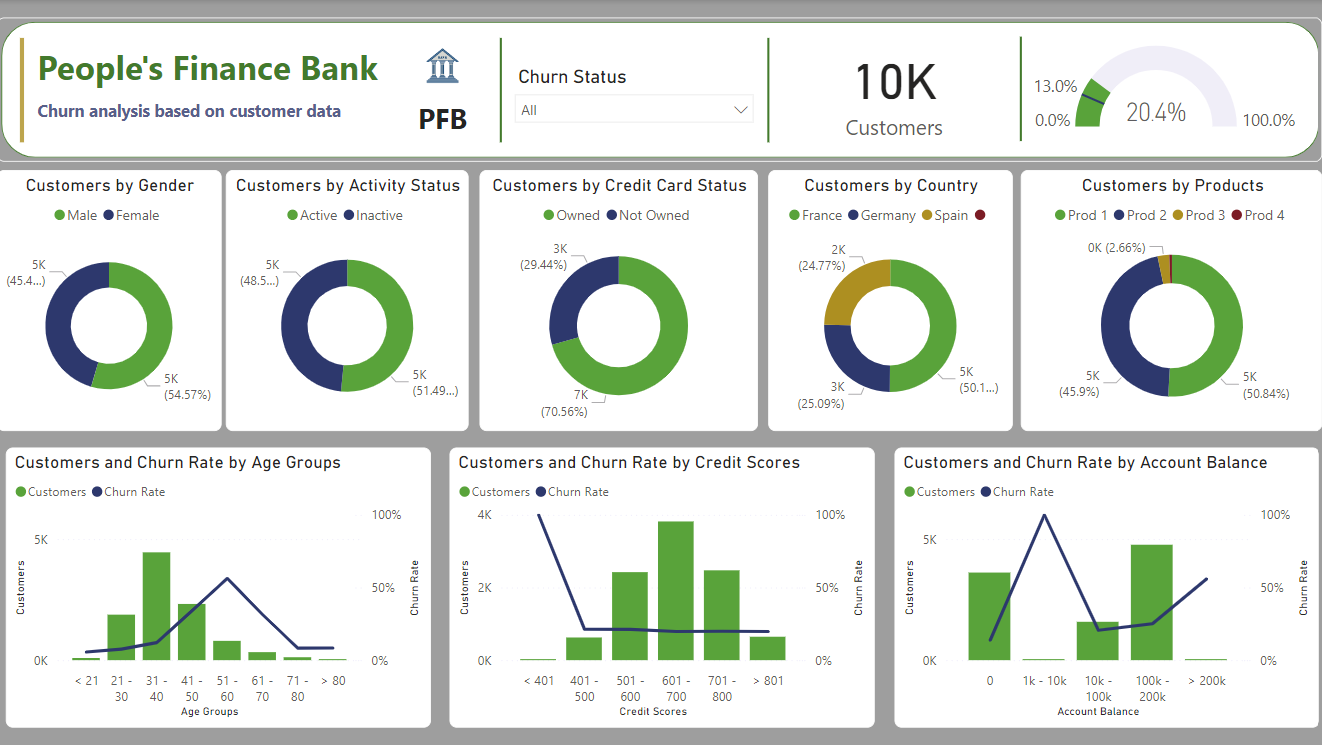

The page's visual inventory and layout, read from the dashboard file:
{"tool":"powerbi","page":{"name":"Churn Analysis","canvas":[1280,720],"ordinal":0},"visuals":[{"type":"donutChart","fields":{"Y":["Customer Data.Customers"],"Category":["Customer Data.Gender"]},"box":[0,163.6,216.4,251.9],"z":0},{"type":"donutChart","fields":{"Y":["Customer Data.Customers"],"Category":["Customer Data.Activity Status"]},"box":[221.3,163.6,234.8,251.9],"z":1000},{"type":"donutChart","fields":{"Y":["Customer Data.Customers"],"Category":["Customer Data.Credit Card Status"]},"box":[465.9,163.6,269,251.9],"z":2000},{"type":"donutChart","fields":{"Y":["Customer Data.Customers"],"Category":["Customer Data.Country"]},"box":[744.7,163.6,236,251.9],"z":3000},{"type":"donutChart","fields":{"Y":["Customer Data.Customers"],"Category":["Customer Data.Products"]},"box":[988,163.6,292.3,251.9],"z":4000},{"type":"lineStackedColumnComboChart","fields":{"Y":["Customer Data.Customers"],"Y2":["Customer Data.Churn Rate"],"Category":["Age Groups.Age Groups"]},"box":[8.6,432.5,410,270.2],"z":5000},{"type":"lineStackedColumnComboChart","fields":{"Y":["Customer Data.Customers"],"Y2":["Customer Data.Churn Rate"],"Category":["Credit Scores.Credit Scores"]},"box":[437.2,432.5,410,270.2],"z":6000},{"type":"lineStackedColumnComboChart","fields":{"Y":["Customer Data.Customers"],"Y2":["Customer Data.Churn Rate"],"Category":["Acct Balance.Account Balance"]},"box":[865.8,432.5,410,270.2],"z":7000},{"type":"shape","box":[0,17.1,1280.3,139.4],"z":8000},{"type":"slicer","fields":{"Values":["Customer Data.Churn Status"]},"box":[486.7,53.8,258,79.5],"z":9000},{"type":"gauge","fields":{"Y":["Customer Data.Churn Rate"],"MinValue":["Min(Customer Data.Minimum Churn Rate)"],"MaxValue":["Max(Customer Data.Maximum Churn Rate)"],"TargetValue":["Min(Customer Data.Target Churn Rate)"]},"box":[988,31.8,278.8,108.8],"z":10000},{"type":"card","fields":{"Values":["Customer Data.Customers"]},"box":[744.7,33,243.3,107.6],"z":11000},{"type":"textbox","box":[30.2,33.8,364.3,62.7],"z":12000},{"type":"textbox","box":[30.6,86.8,326.5,40.4],"z":13000},{"type":"shape","box":[480.6,33,12.2,108.8],"z":14000},{"type":"shape","box":[737.4,33,14.7,108.8],"z":15000},{"type":"shape","box":[980.7,31.8,14.7,108.8],"z":16000},{"type":"shape","box":[18.3,33,12.2,108.8],"z":17000},{"type":"image","box":[380.3,33,100.3,62.4],"z":18000},{"type":"textbox","box":[380.3,86.8,100.3,55],"z":19000}]}

Visuals, with their boxes in screenshot pixels (x1, y1, x2, y2), scaled from the page's 1280x720 canvas onto the 1322x745 screenshot:
donutChart - Customer Data.Customers x Customer Data.Gender: x1=0, y1=169, x2=224, y2=430
donutChart - Customer Data.Customers x Customer Data.Activity Status: x1=229, y1=169, x2=471, y2=430
donutChart - Customer Data.Customers x Customer Data.Credit Card Status: x1=481, y1=169, x2=759, y2=430
donutChart - Customer Data.Customers x Customer Data.Country: x1=769, y1=169, x2=1013, y2=430
donutChart - Customer Data.Customers x Customer Data.Products: x1=1020, y1=169, x2=1321, y2=430
lineStackedColumnComboChart - Customer Data.Customers x Customer Data.Churn Rate: x1=9, y1=448, x2=432, y2=727
lineStackedColumnComboChart - Customer Data.Customers x Customer Data.Churn Rate: x1=452, y1=448, x2=875, y2=727
lineStackedColumnComboChart - Customer Data.Customers x Customer Data.Churn Rate: x1=894, y1=448, x2=1318, y2=727
shape: x1=0, y1=18, x2=1321, y2=162
slicer - Customer Data.Churn Status: x1=503, y1=56, x2=769, y2=138
gauge - Customer Data.Churn Rate x Min(Customer Data.Minimum Churn Rate): x1=1020, y1=33, x2=1308, y2=145
card - Customer Data.Customers: x1=769, y1=34, x2=1020, y2=145
textbox: x1=31, y1=35, x2=407, y2=100
textbox: x1=32, y1=90, x2=369, y2=132
shape: x1=496, y1=34, x2=509, y2=147
shape: x1=762, y1=34, x2=777, y2=147
shape: x1=1013, y1=33, x2=1028, y2=145
shape: x1=19, y1=34, x2=32, y2=147
image: x1=393, y1=34, x2=496, y2=99
textbox: x1=393, y1=90, x2=496, y2=147
